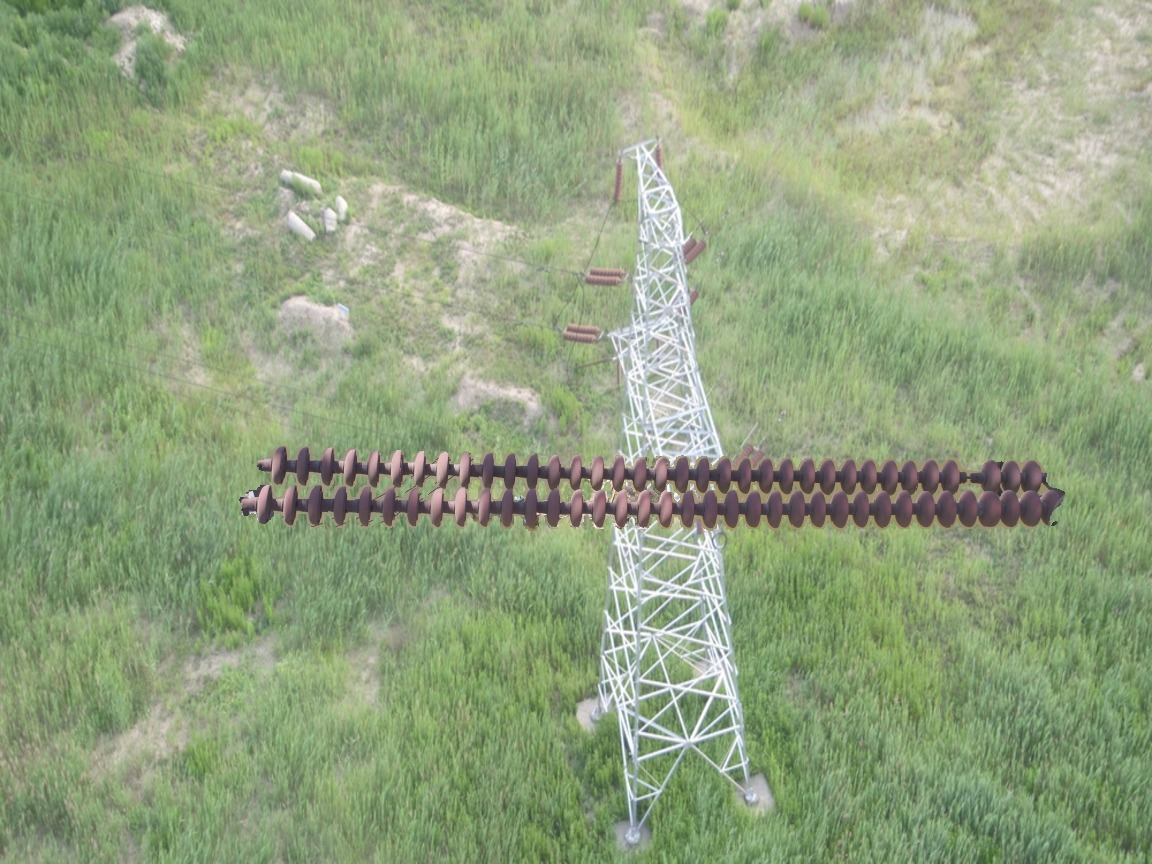defect: (938, 458, 1004, 492)
